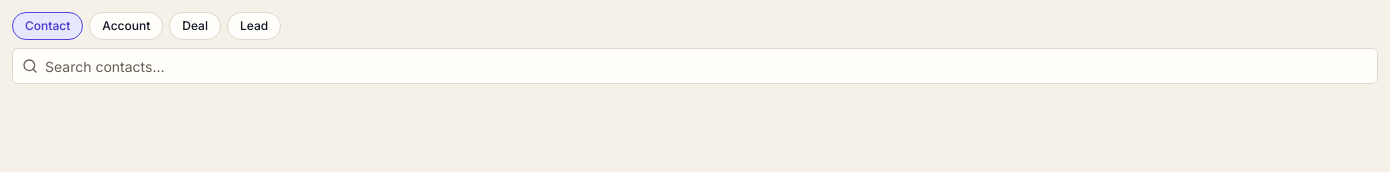
Scenario: RecordPicker › an empty result names the query
Type "zzz" into the dropdown named "Find record" at (695, 66), box 12,48 -> 1378,84
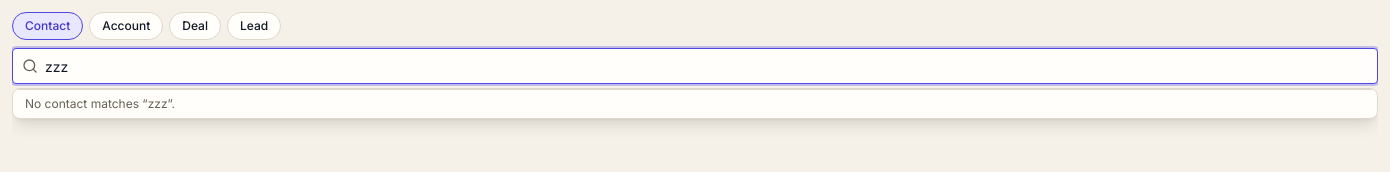
Now the text "No contact matches “zzz”." is shown, box 13,89 -> 1377,118
